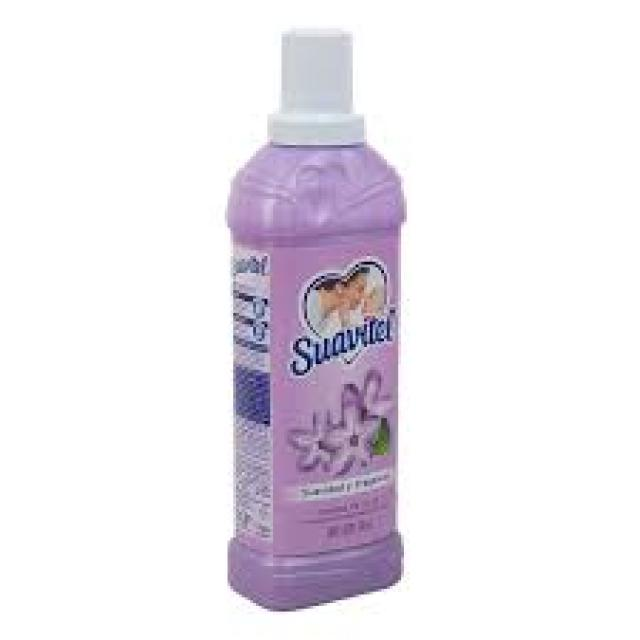Botella: (216, 16, 414, 606)
